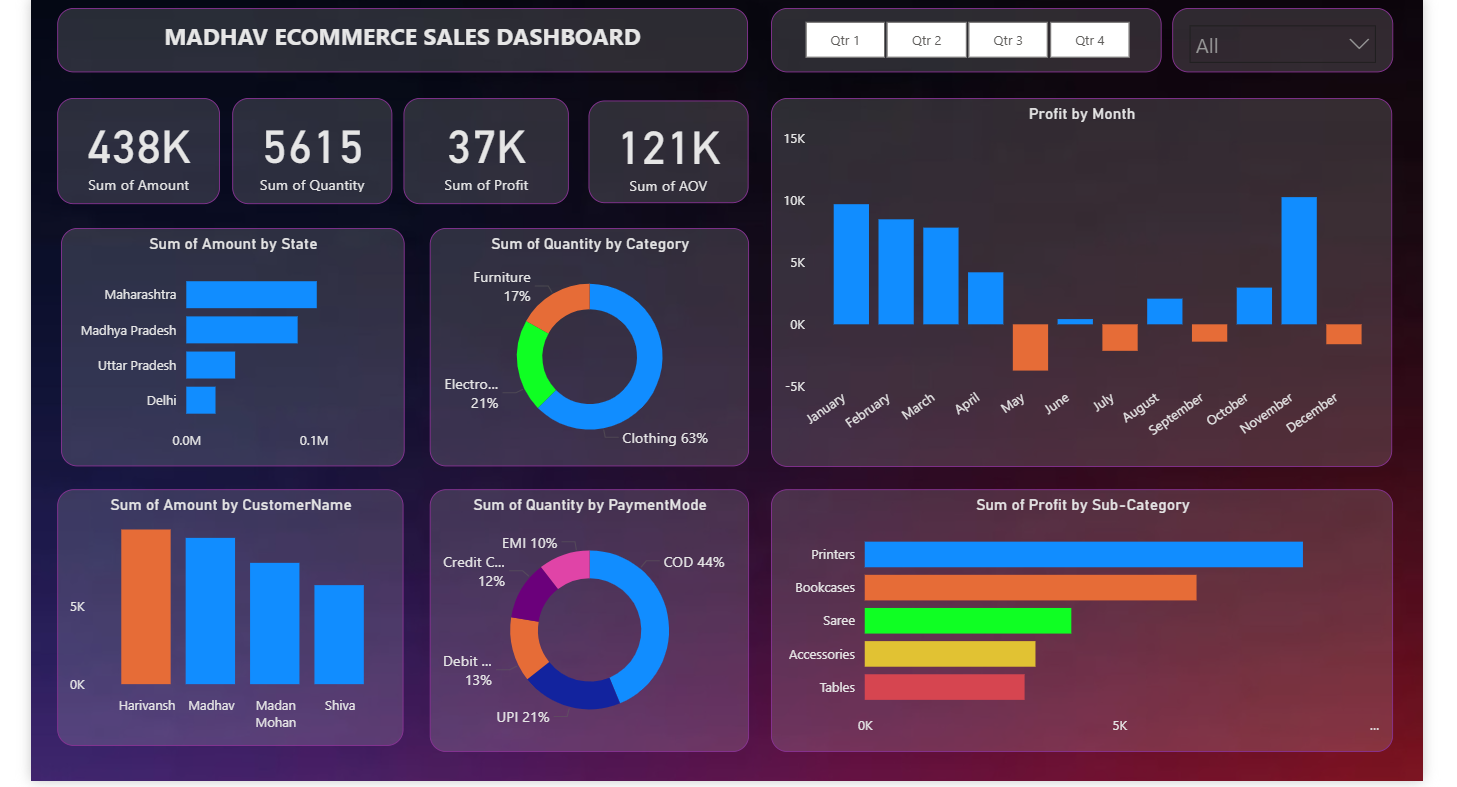

The dashboard page shown, as its layout file describes it:
{"tool":"powerbi","page":{"name":"Page 1","canvas":[1280,720],"ordinal":0},"visuals":[{"type":"textbox","box":[24.7,9.6,635.3,59],"z":0},{"type":"columnChart","title":"Profit by Month","fields":{"Category":["Orders.Order Date.Variation.Date Hierarchy.Month"],"Y":["Details (1).Profit"]},"box":[680.6,91.9,570.8,338.9],"z":1000},{"type":"barChart","fields":{"Category":["Details (1).Sub-Category"],"Y":["Details (1).Profit"]},"box":[680.6,451.5,572.2,241.5],"z":2000},{"type":"donutChart","fields":{"Category":["Details (1).Category"],"Y":["Details (1).Quantity"]},"box":[366.4,211.3,293.7,219.6],"z":3000},{"type":"donutChart","fields":{"Category":["Details (1).PaymentMode"],"Y":["Details (1).Quantity"]},"box":[366.4,451.5,293.7,241.5],"z":4000},{"type":"card","fields":{"Values":["Details (1).Amount"]},"box":[24.7,91.9,149.6,97.4],"z":5000},{"type":"card","fields":{"Values":["Details (1).Quantity"]},"box":[185.2,91.9,146.8,97.4],"z":6000},{"type":"card","fields":{"Values":["Details (1).Profit"]},"box":[343.1,91.9,152.3,97.4],"z":7000},{"type":"card","fields":{"Values":["Details (1).AOV"]},"box":[513.2,94.7,146.8,94.7],"z":8000},{"type":"barChart","fields":{"Category":["Orders.State"],"Y":["Details (1).Amount"]},"box":[27.4,211.3,315.6,219.6],"z":9000},{"type":"columnChart","fields":{"Category":["Orders.CustomerName"],"Y":["Details (1).Amount"]},"box":[24.7,451.5,318.4,236],"z":10000},{"type":"slicer","fields":{"Values":["Orders.Order Date.Variation.Date Hierarchy.Quarter"]},"box":[680.6,9.6,359.5,59],"z":11000},{"type":"slicer","fields":{"Values":["Orders.State"]},"box":[1049.7,9.6,203.1,59],"z":12000}]}

Visuals, with their boxes on the page's 1280x720 design canvas (x1, y1, x2, y2). These are canvas units, not pixel positions in the 1457x787 screenshot, which may show the page scaled, cropped or inside an application window:
textbox: bbox=[25, 10, 660, 69]
"Profit by Month" columnChart: bbox=[681, 92, 1251, 431]
barChart - Details (1).Sub-Category x Details (1).Profit: bbox=[681, 452, 1253, 693]
donutChart - Details (1).Category x Details (1).Quantity: bbox=[366, 211, 660, 431]
donutChart - Details (1).PaymentMode x Details (1).Quantity: bbox=[366, 452, 660, 693]
card - Details (1).Amount: bbox=[25, 92, 174, 189]
card - Details (1).Quantity: bbox=[185, 92, 332, 189]
card - Details (1).Profit: bbox=[343, 92, 495, 189]
card - Details (1).AOV: bbox=[513, 95, 660, 189]
barChart - Orders.State x Details (1).Amount: bbox=[27, 211, 343, 431]
columnChart - Orders.CustomerName x Details (1).Amount: bbox=[25, 452, 343, 688]
slicer - Orders.Order Date.Variation.Date Hierarchy.Quarter: bbox=[681, 10, 1040, 69]
slicer - Orders.State: bbox=[1050, 10, 1253, 69]
